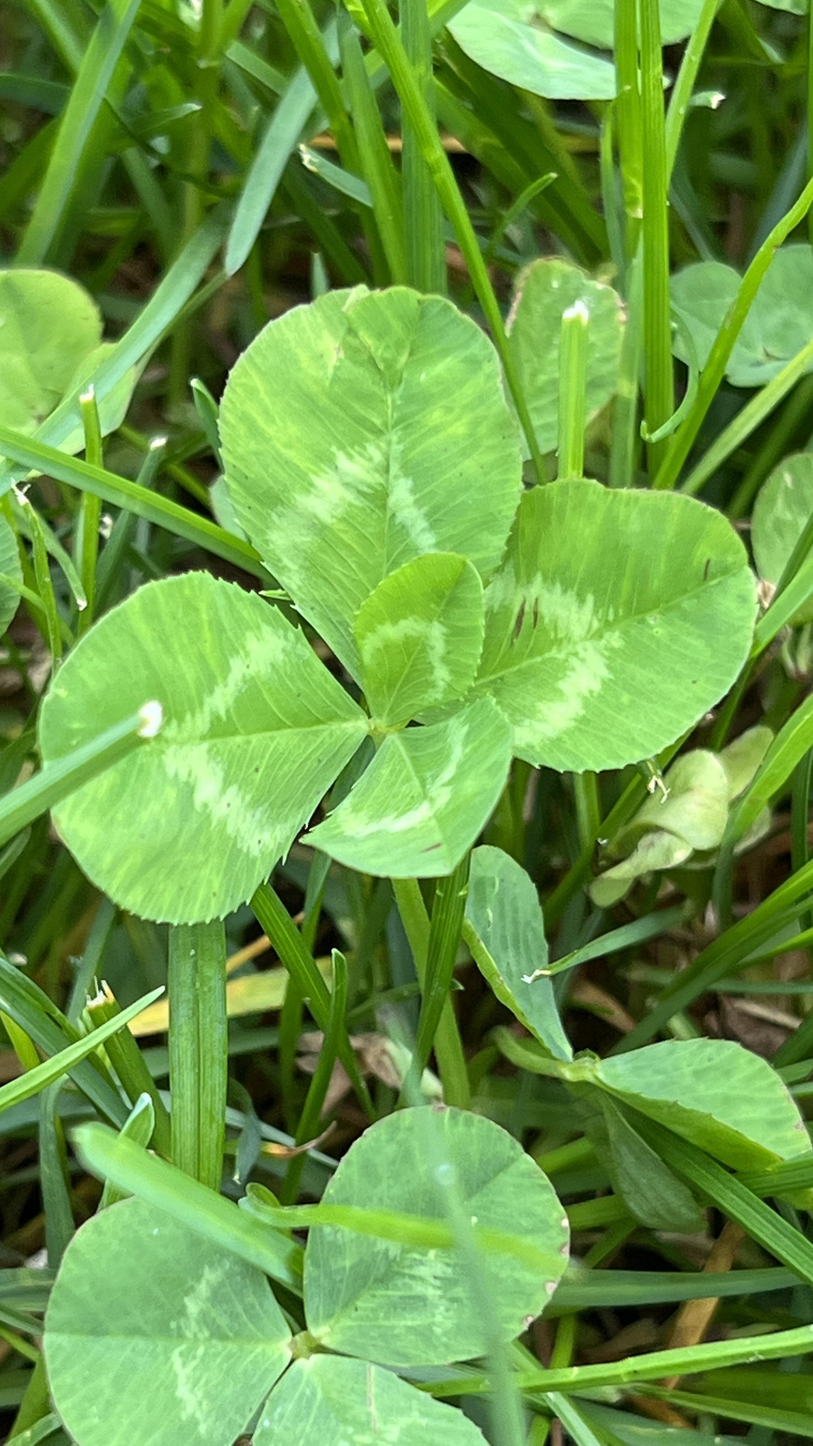5-Leaf-Clovers: (165, 98, 522, 1369)
